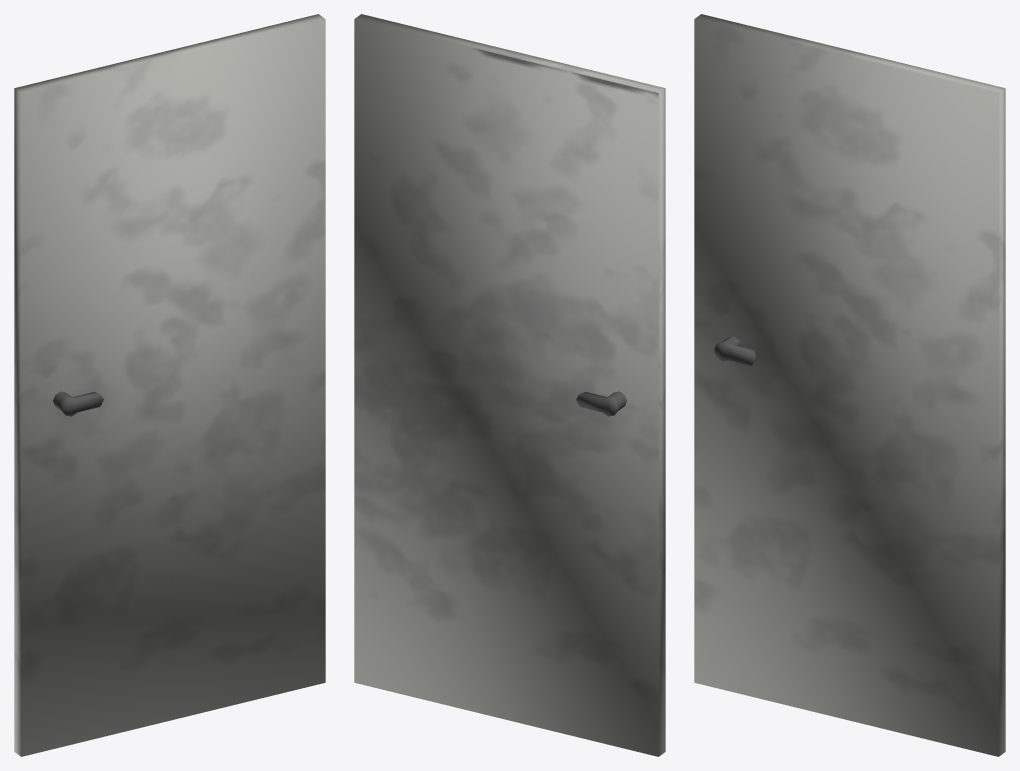
Rendered from Porta.fbx.
The picture shows the model from 3 angles, left to right: view 1: azimuth 30°, elevation 25°; view 2: azimuth 150°, elevation 25°; view 3: azimuth 330°, elevation 25°; orthographic projection.
Visible parts, largest first — view 1: Porta; view 2: Porta; view 3: Porta.
Part boxes in pixels (left/top/right/bottom): Porta: left=14, top=14, right=325, bottom=756; Porta: left=354, top=14, right=665, bottom=756; Porta: left=694, top=14, right=1005, bottom=756.
Bounding box in the file's own units: 119 × 247 × 19.61.
